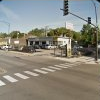crosswalk: (0, 62, 80, 85)
